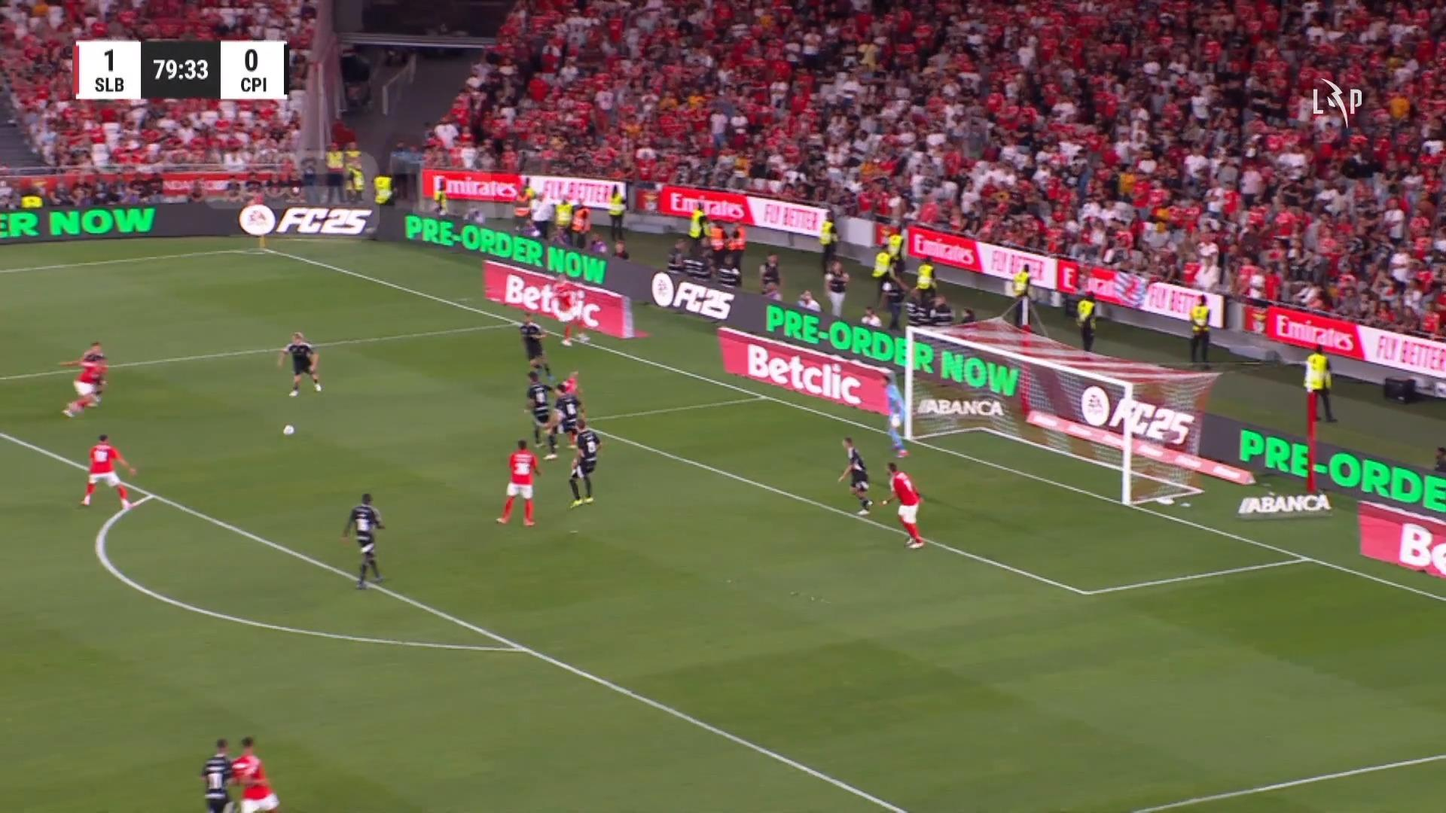ball: (282, 425, 294, 435)
goalkeeper: (880, 370, 909, 458)
player: (79, 433, 137, 511), (341, 492, 386, 589), (494, 438, 541, 526), (880, 461, 926, 548), (58, 340, 108, 418), (230, 735, 280, 811), (545, 370, 584, 458), (566, 415, 602, 507), (276, 330, 322, 397), (837, 435, 873, 516), (523, 369, 557, 450), (518, 310, 554, 384), (200, 737, 236, 811), (550, 276, 587, 346), (77, 340, 108, 413)
